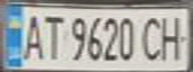0: (118, 14, 139, 63)
2: (103, 14, 121, 63)
6: (84, 14, 106, 62)
9: (66, 12, 87, 62)
A: (18, 10, 45, 61)
C: (139, 12, 166, 62)
H: (157, 11, 190, 62)
T: (39, 11, 66, 61)
